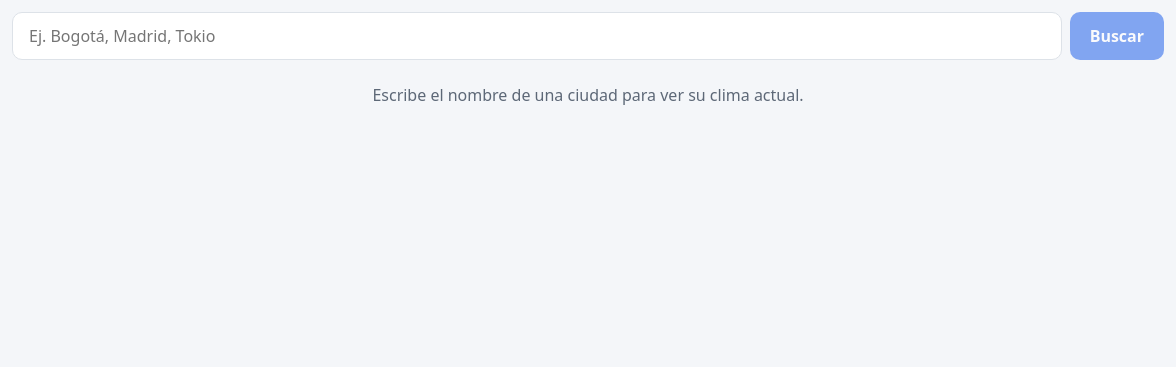
Scenario: WeatherApp › muestra el clima después de una búsqueda exitosa
The width and height of the screenshot is (1176, 367).
Type "Madrid" into the field named "ciudad" at (537, 36), box [12,12,1062,60]
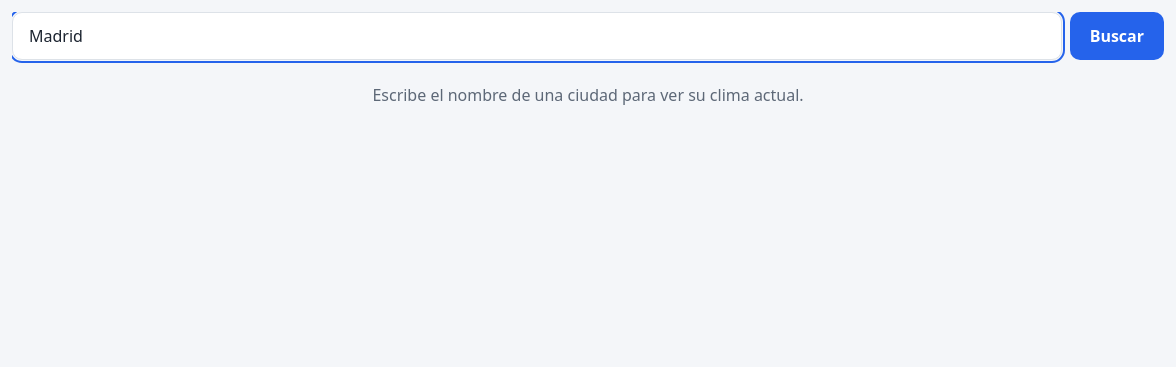
Click the button "Buscar" at (1117, 36), box [1070,12,1164,60]
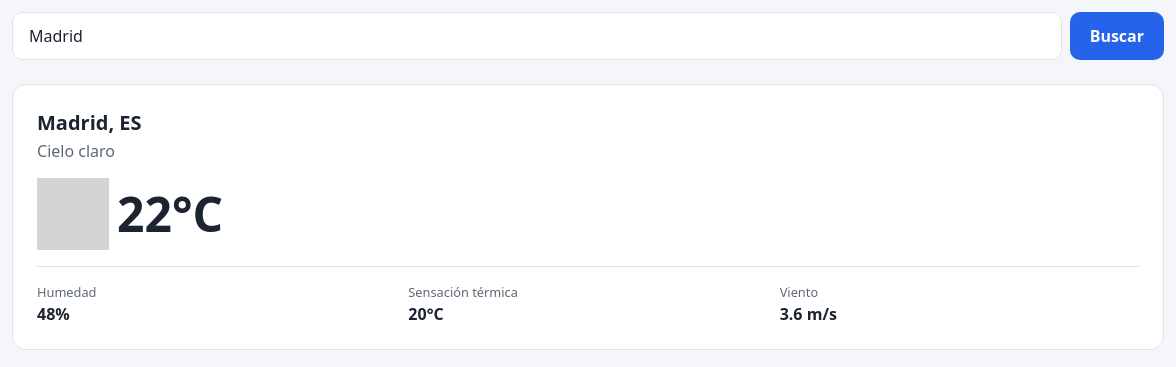
Expected: the heading "Madrid, ES" is shown, [37,109,142,136]
Expected: the text named "Temperatura actual" reads "22°C", [117,190,223,238]
Expected: the text "48%" is shown, [37,303,70,325]
